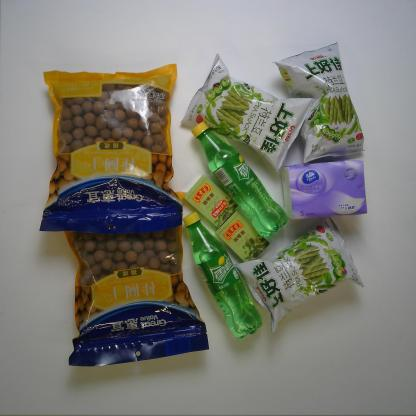Candy: (182, 172, 242, 230), (212, 208, 273, 265)
Dried Food: (63, 188, 212, 371), (34, 61, 187, 237)
Drink: (190, 117, 290, 240), (182, 207, 263, 344)
Puffed Food: (179, 51, 323, 174), (233, 213, 368, 335), (270, 40, 369, 166)
Tissue: (280, 158, 371, 222)
